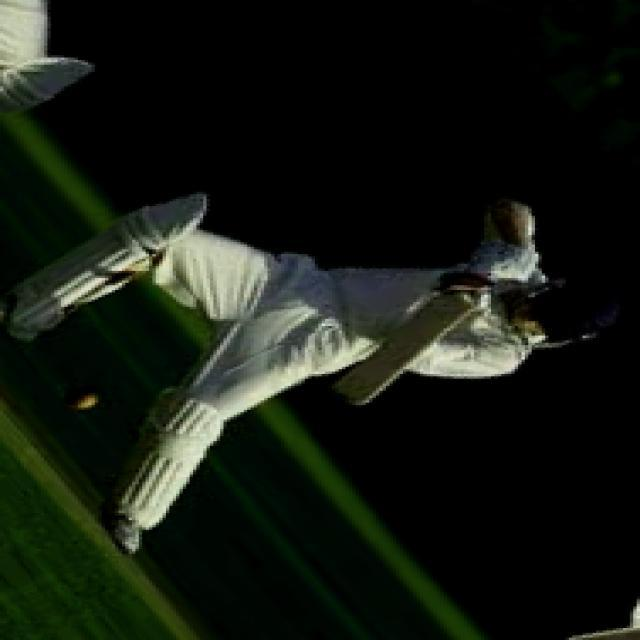bat: (334, 281, 485, 407)
toe: (332, 385, 368, 405)
